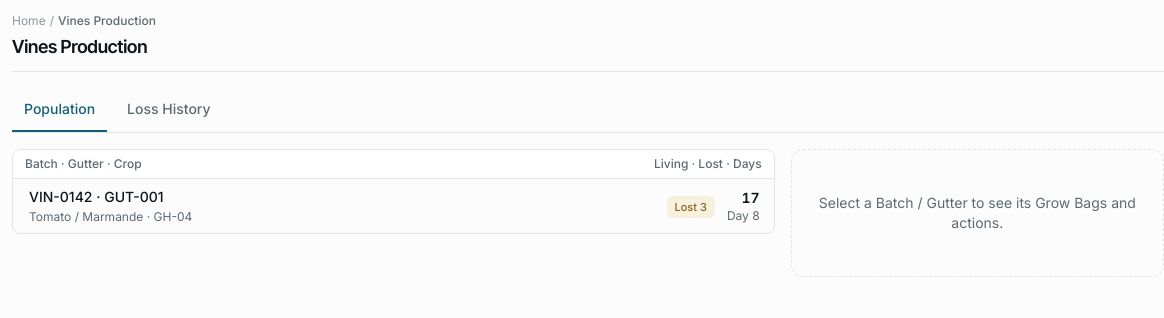
Test case: VinesProductionPage › Loss History tab renders recorded loss with operator-friendly reason/status wording
The image size is (1164, 318).
Expected: the text "VIN-0142 · GUT-001" is shown, [29,186,164,206]
Click the tab "Loss History": (169, 110) [115,88,223,132]
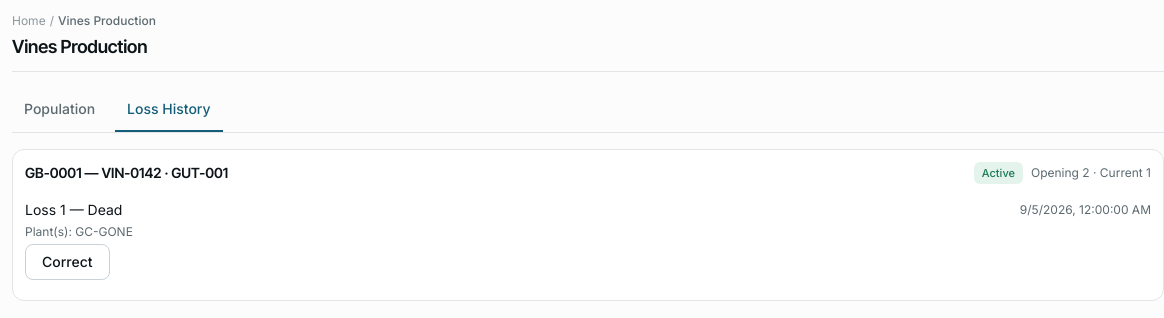
Expected: the text "GB-0001 — VIN-0142 · GUT-001" is shown, [25,163,228,183]
Expected: the text "Loss 1 — Dead" is shown, [25,200,122,220]
Expected: the text "Plant(s): GC-GONE" is shown, [25,224,133,239]
